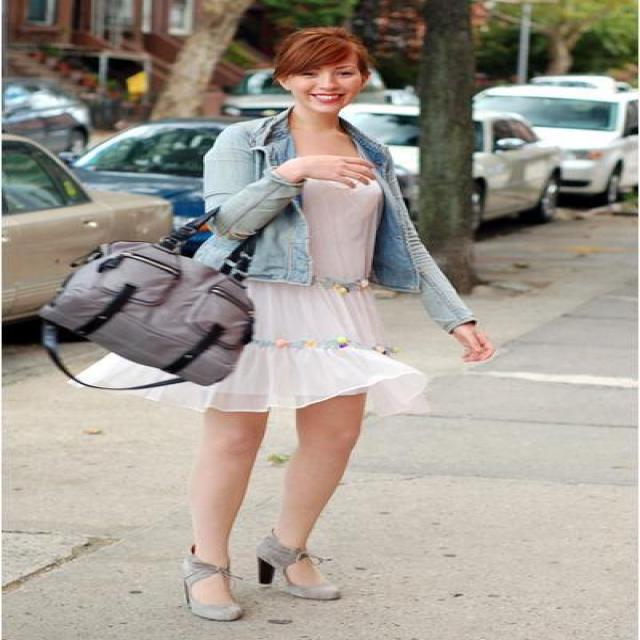bag: (44, 243, 255, 388)
jacket: (189, 115, 475, 334)
shirt: (294, 174, 392, 301)
shoe: (190, 541, 332, 614)
skirt: (212, 282, 398, 411)
